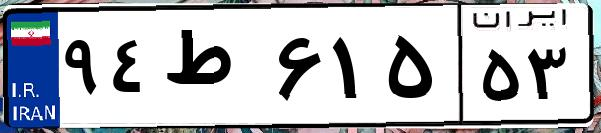1: (330, 28, 385, 110)
3: (525, 38, 570, 115)
4: (110, 28, 158, 98)
5: (385, 28, 445, 110), (475, 38, 525, 113)
6: (270, 28, 330, 110)
9: (57, 26, 110, 100)
ط: (158, 20, 270, 120)
